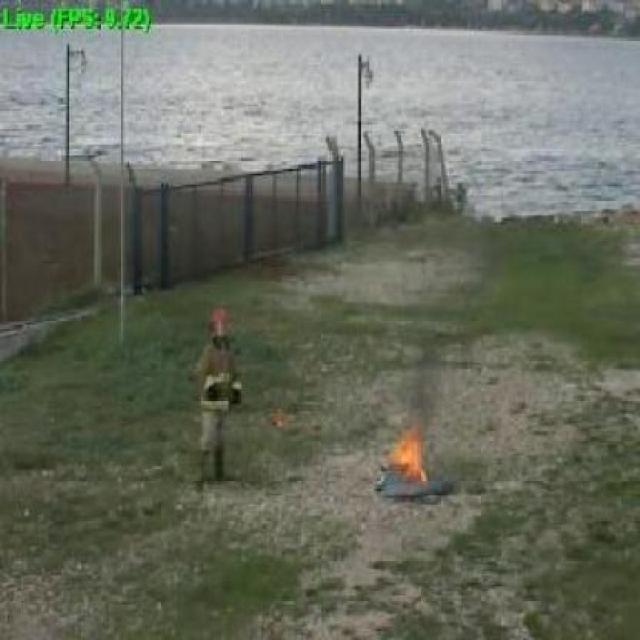Fire: (384, 424, 428, 484)
